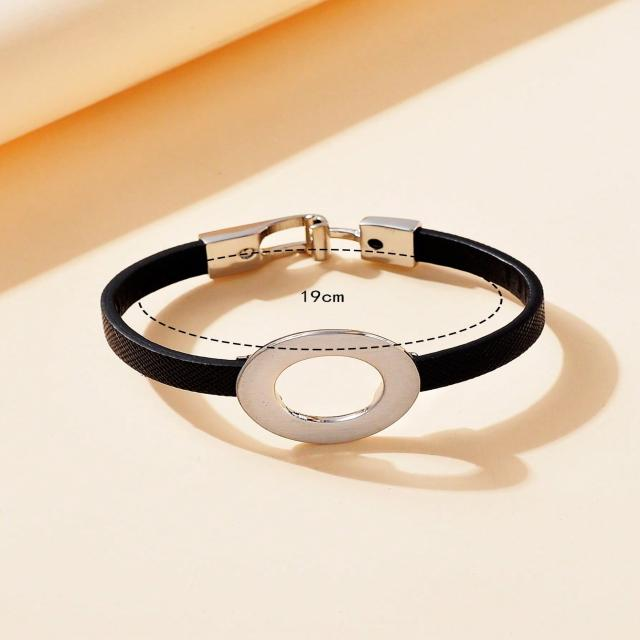bracelet: (55, 103, 608, 537)
